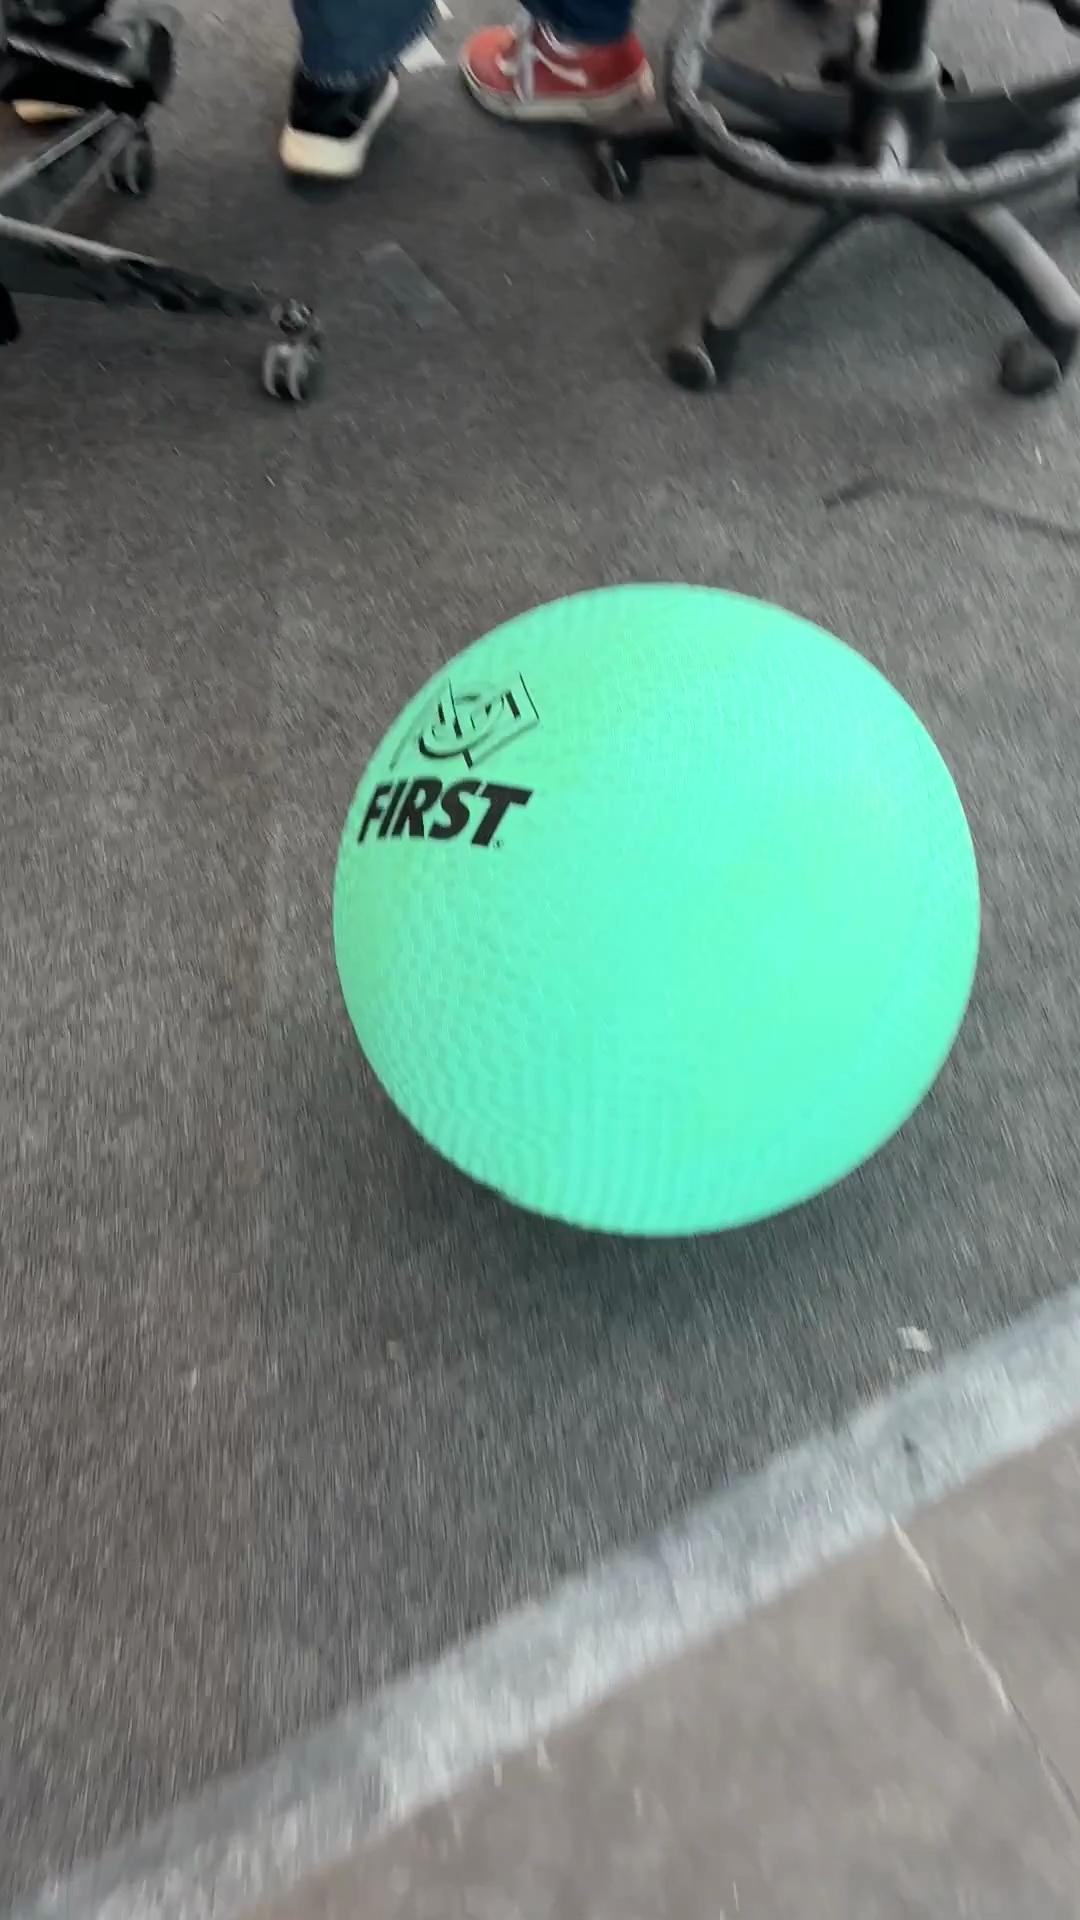ALGAE: (328, 578, 984, 1240)
